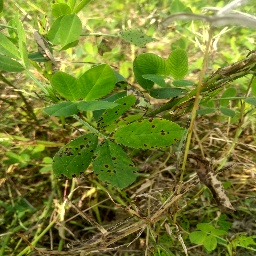GroundNut_Leaf: (52, 132, 99, 176), (101, 139, 135, 189), (133, 52, 166, 96), (138, 118, 183, 146), (49, 13, 81, 48), (83, 66, 114, 101), (1, 21, 29, 56), (53, 72, 82, 99), (92, 102, 121, 129), (167, 49, 187, 86), (194, 223, 222, 247), (121, 29, 153, 46), (45, 104, 80, 117), (1, 57, 23, 71), (221, 87, 236, 105)
